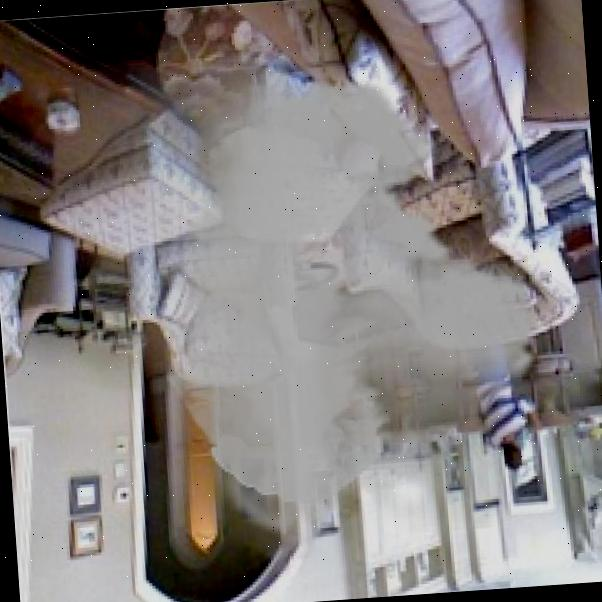smoke: (0, 21, 574, 595)
